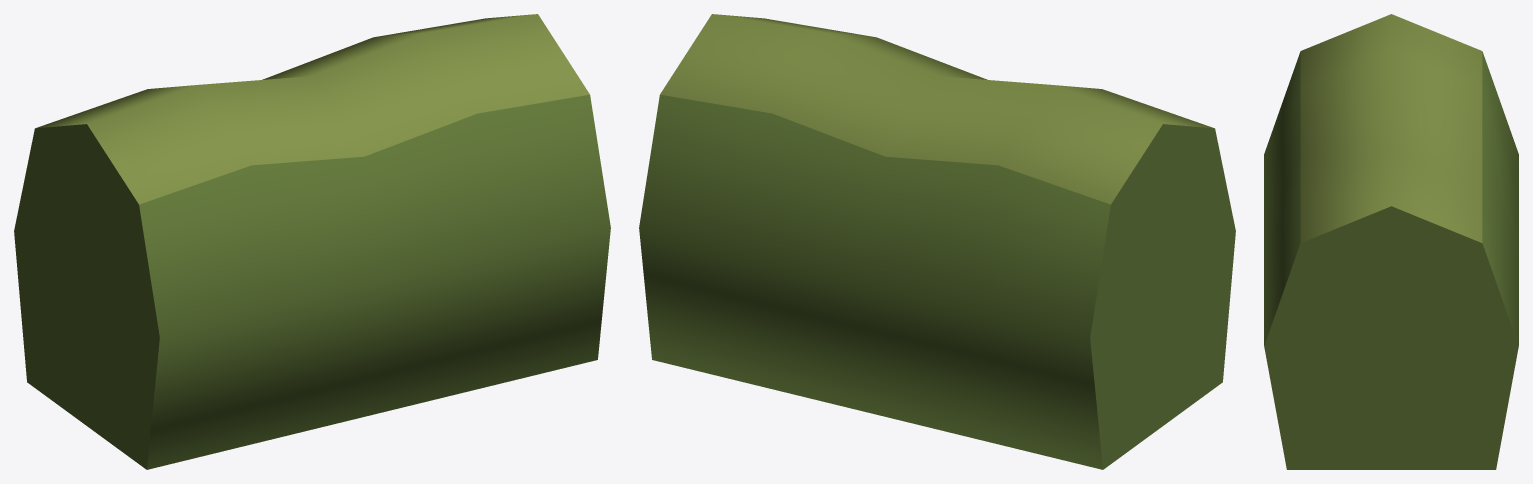
File: alc_hedge.glb
3 views of the same model, side by side, from view 1: azimuth 30°, elevation 25°; view 2: azimuth 150°, elevation 25°; view 3: azimuth 270°, elevation 25° (orthographic). The views are drawn at different scales.
Visible parts, largest first — view 1: alc_hedge; view 2: alc_hedge; view 3: alc_hedge.
Boxes of the visible parts, left/top/right/bottom form: alc_hedge: left=14, top=14, right=610, bottom=469; alc_hedge: left=639, top=14, right=1235, bottom=469; alc_hedge: left=1264, top=14, right=1518, bottom=469.
Bounding box in the file's own units: 1 × 0.665 × 0.56.
